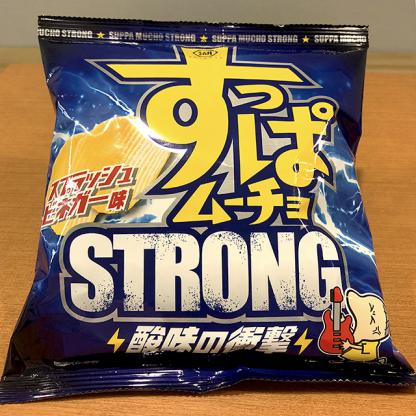potatochip: (0, 11, 415, 402)
